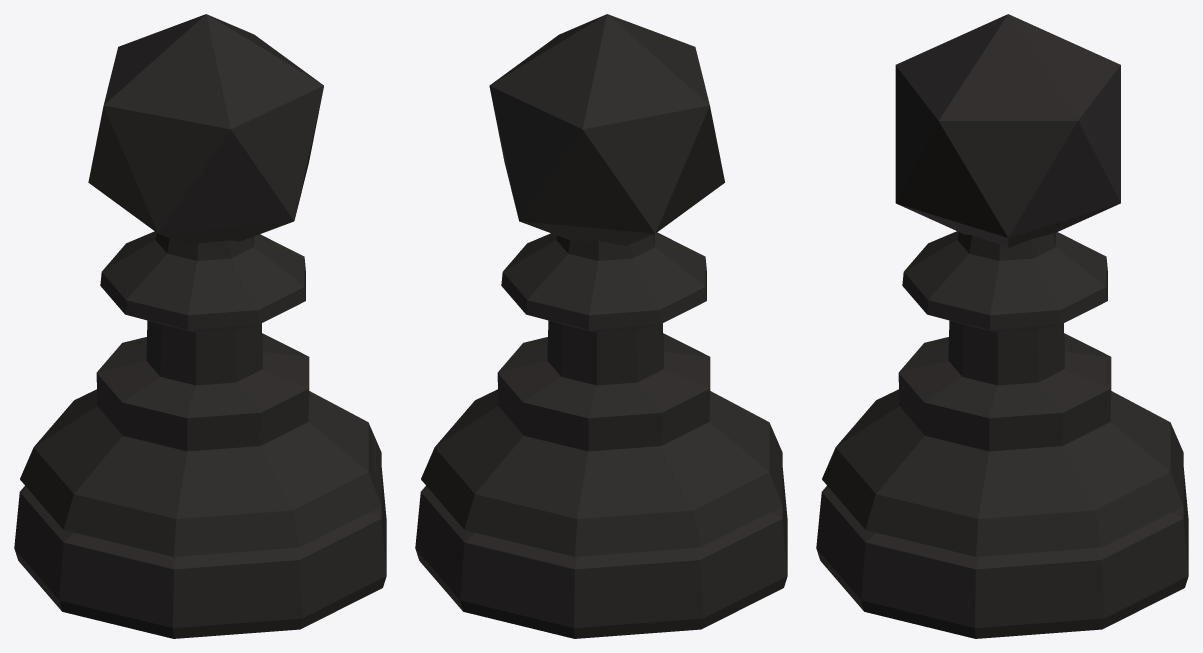
Rendered from opawn.FBX.
3 views of the same model, side by side, from view 1: azimuth 30°, elevation 25°; view 2: azimuth 150°, elevation 25°; view 3: azimuth 270°, elevation 25° (orthographic).
Visible parts, largest first — view 1: Black_Pawn_mesh; view 2: Black_Pawn_mesh; view 3: Black_Pawn_mesh.
Part boxes in pixels (<box>): Black_Pawn_mesh: <box>14,14,386,638</box>; Black_Pawn_mesh: <box>415,14,787,638</box>; Black_Pawn_mesh: <box>816,14,1188,638</box>.
Bounding box in the file's own units: 3.74 × 3.68 × 5.96.
Materials: 1 (1 with a texture image).
